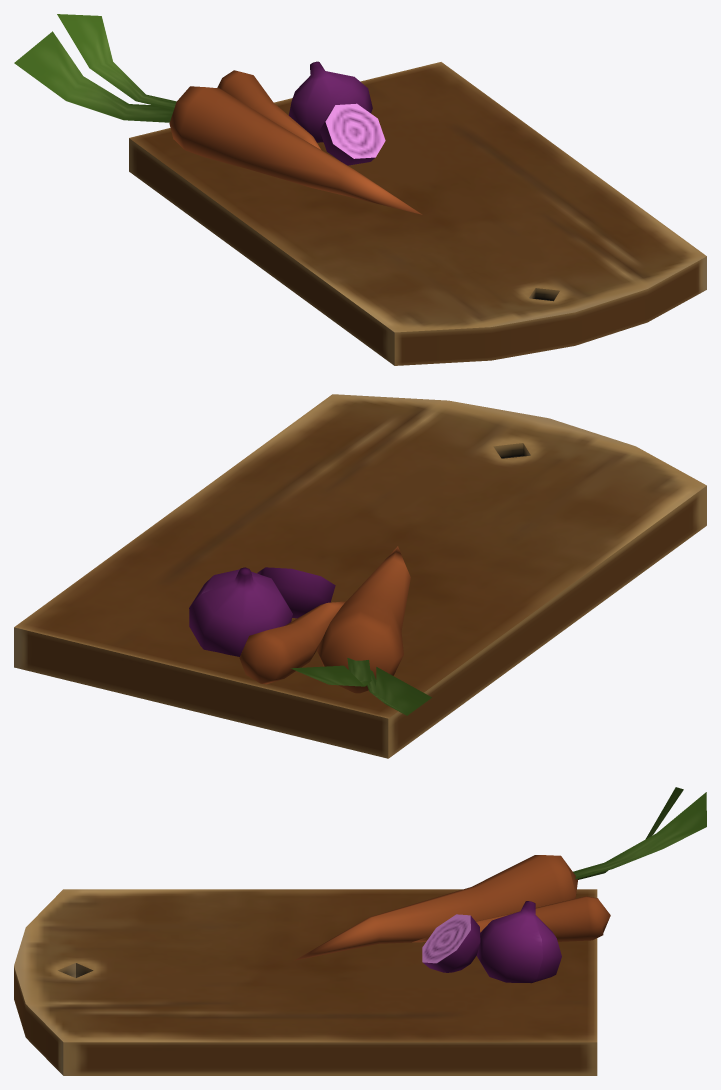
Rendered from assets_choppingboard.fbx.
3 views of the same model, one above another, from view 1: azimuth 30°, elevation 25°; view 2: azimuth 150°, elevation 25°; view 3: azimuth 270°, elevation 25° (orthographic). The views are drawn at different scales.
Visible parts, largest first — view 1: assets_choppingboard; view 2: assets_choppingboard; view 3: assets_choppingboard.
Part boxes in pixels (x1,y1,x2,y2): assets_choppingboard: (14,14,706,365); assets_choppingboard: (14,394,706,758); assets_choppingboard: (14,787,706,1075).
Size of the model in its own units: 6.11 by 1.83 by 9.4.
